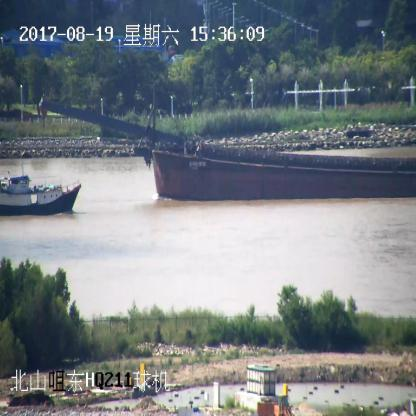Bulk Carrier: (40, 100, 416, 201)
